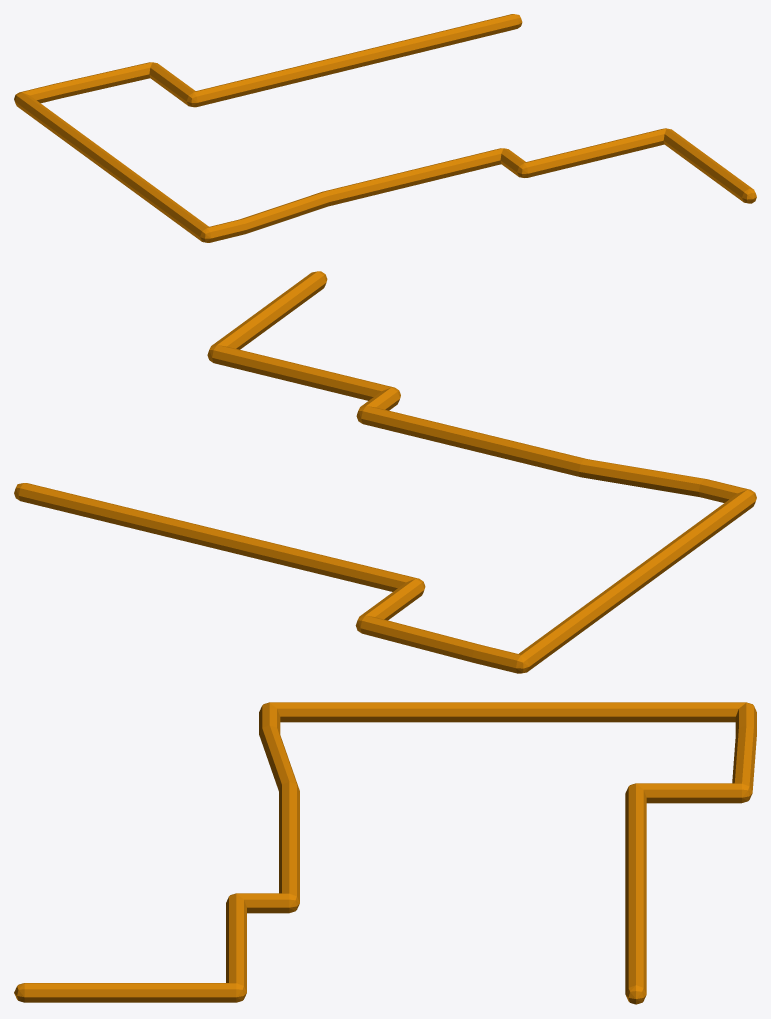
The picture shows the model from 3 angles, top to bottom: view 1: azimuth 30°, elevation 25°; view 2: azimuth 150°, elevation 25°; view 3: azimuth 270°, elevation 25°; orthographic projection. The views are drawn at different scales.
Bounding box in the file's own units: 651 × 20 × 701.
